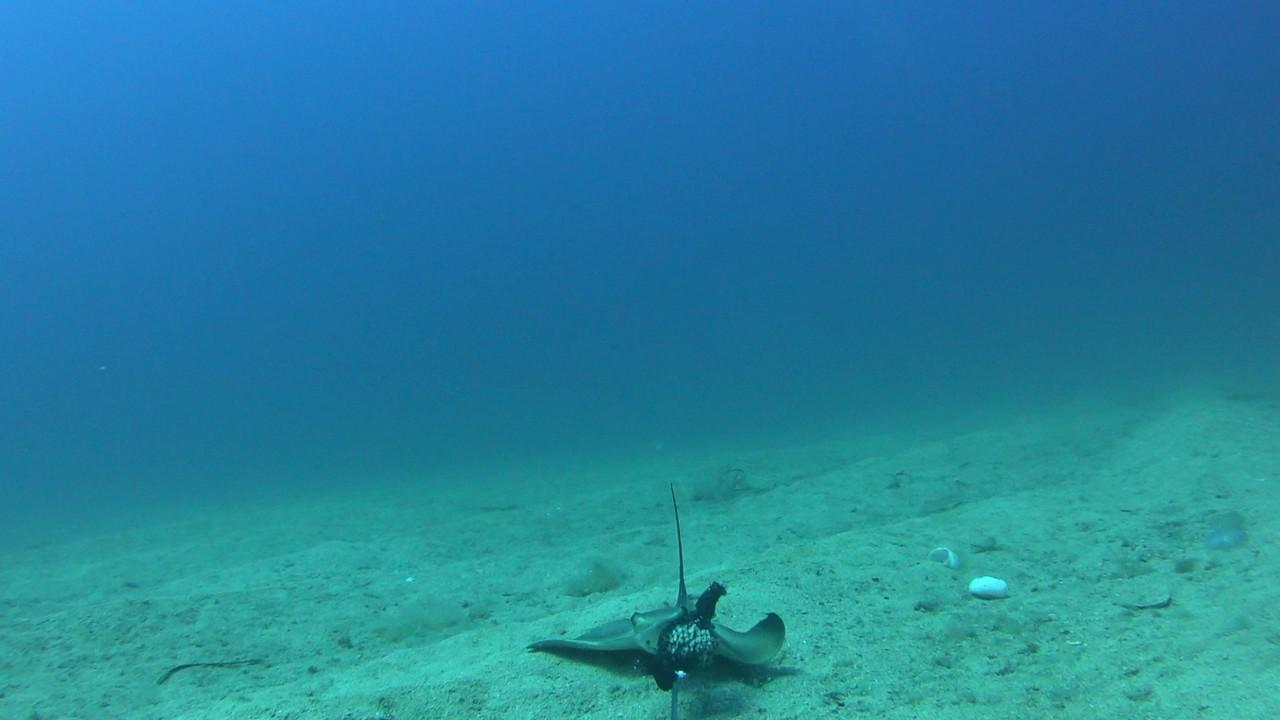myliobatis: (524, 468, 809, 675)
